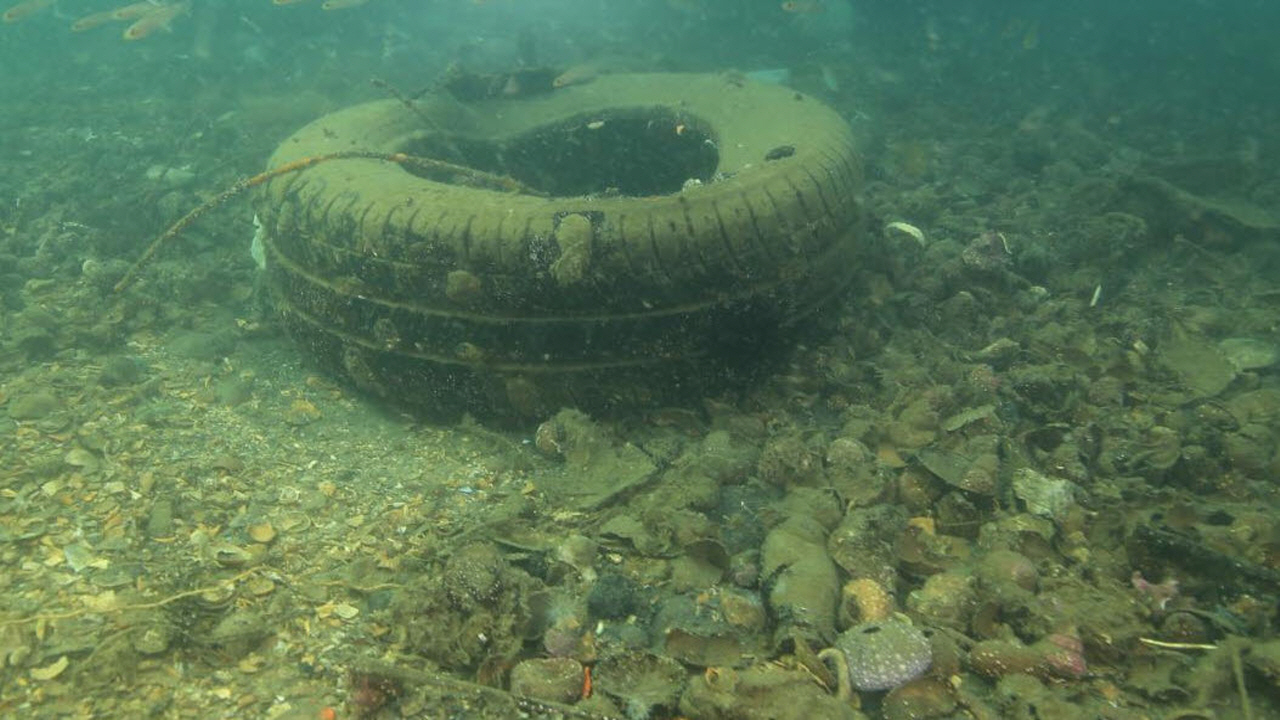tire: (259, 68, 862, 413)
